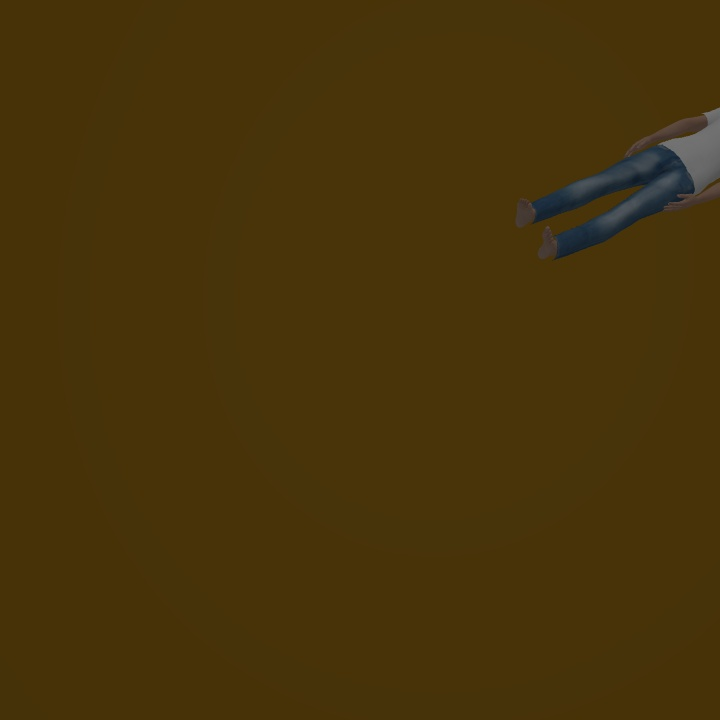victim: (515, 105, 720, 262)
